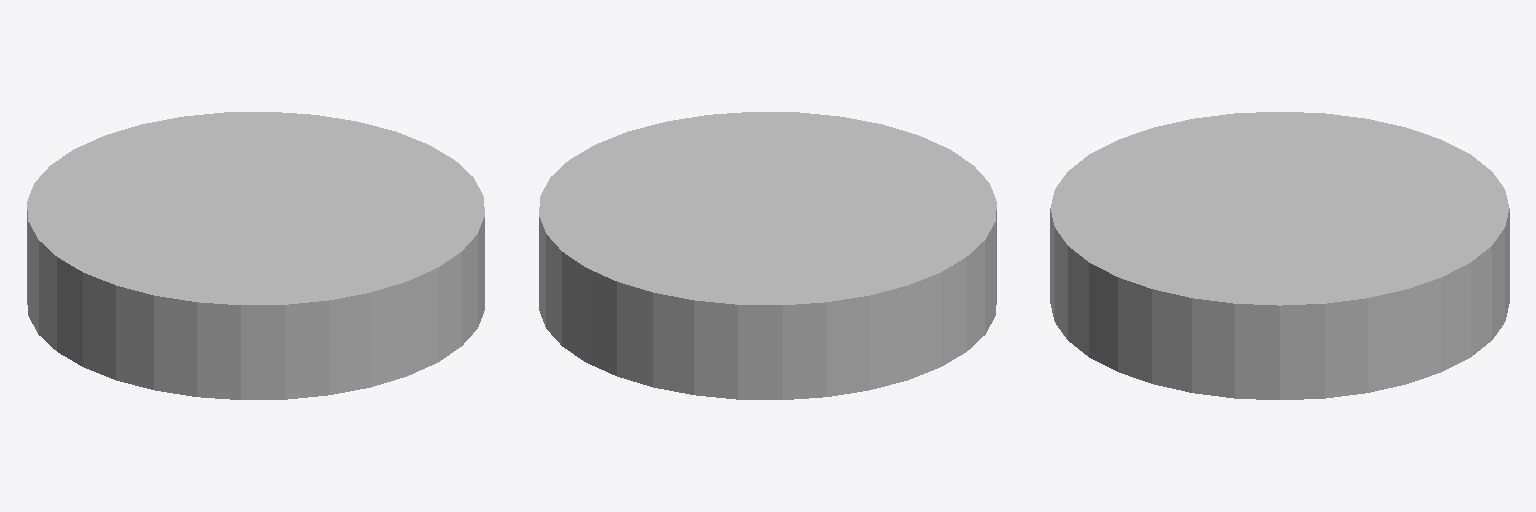
File: button_flip.obj
3 views of the same model, side by side, from view 1: azimuth 30°, elevation 25°; view 2: azimuth 150°, elevation 25°; view 3: azimuth 270°, elevation 25° (orthographic).
Visible parts, largest first — view 1: button-flip; view 2: button-flip; view 3: button-flip.
Boxes of the visible parts, <box> form: button-flip: <box>27,112,484,399</box>; button-flip: <box>539,112,996,399</box>; button-flip: <box>1050,112,1509,399</box>.
Size of the model in its own units: 1.11 by 0.2524 by 1.11.